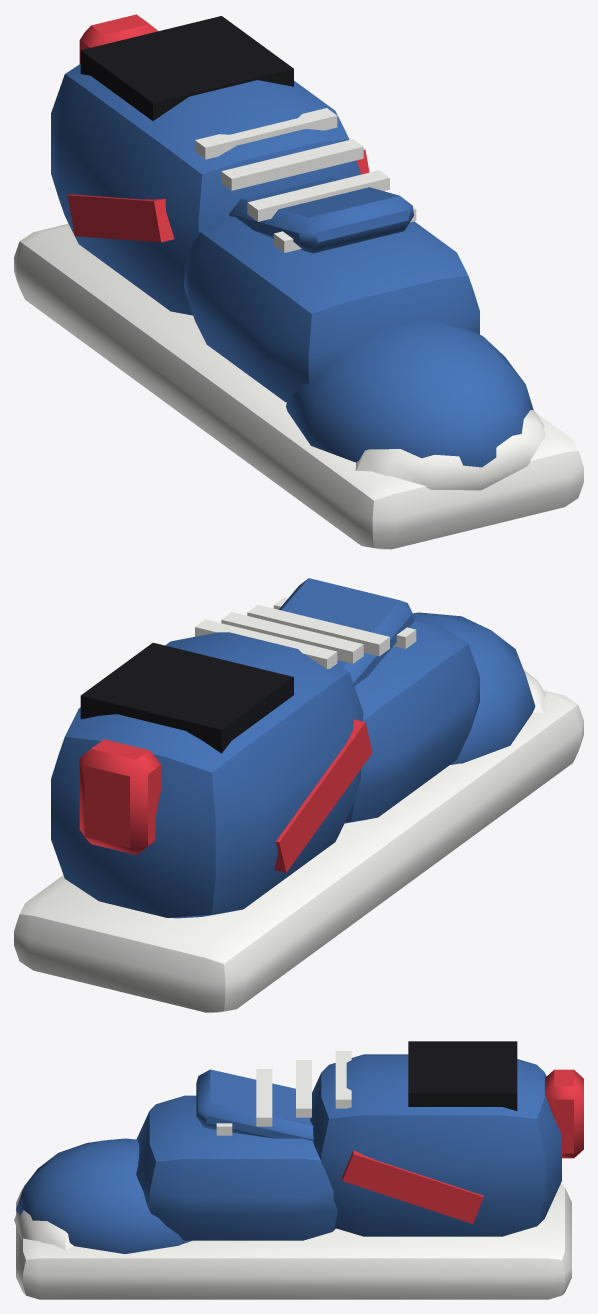
Rendered from shoe.glb.
The picture shows the model from 3 angles, top to bottom: view 1: azimuth 30°, elevation 25°; view 2: azimuth 150°, elevation 25°; view 3: azimuth 270°, elevation 25°; orthographic projection. The views are drawn at different scales.
Parts seen in each view (by area): view 1: body; view 2: body; view 3: body.
Boxes of the visible parts, x1,y1,x2,y2 form: body: (14,14,583,549); body: (14,578,583,1012); body: (14,1041,583,1299).
Bounding box in the file's own units: 10 × 11.3 × 28.7.
